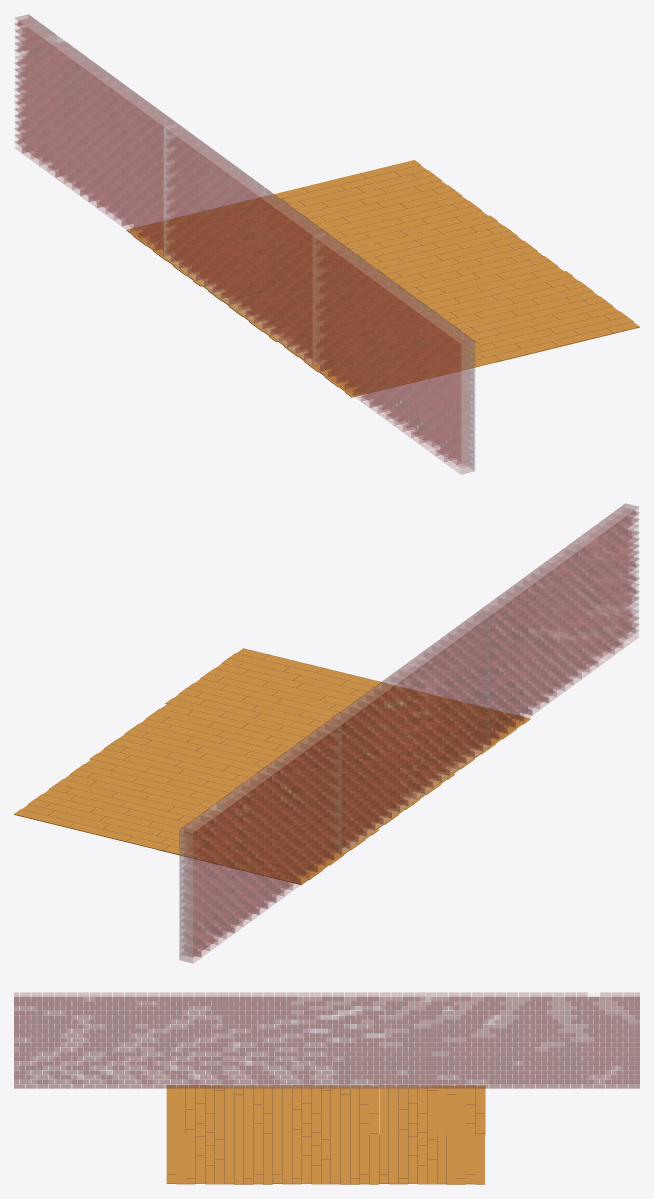
The model's file is garage-draco-2.glb.
The picture shows the model from 3 angles, top to bottom: view 1: azimuth 30°, elevation 25°; view 2: azimuth 150°, elevation 25°; view 3: azimuth 270°, elevation 25°; orthographic projection. The views are drawn at different scales.
Parts seen in each view (by area): view 1: merged; view 2: merged; view 3: merged.
Boxes of the visible parts, x1,y1,x2,y2 form: merged: [14, 14, 639, 474]; merged: [14, 503, 639, 963]; merged: [14, 992, 639, 1184].
Bounding box in the file's own units: 8.02 × 3.51 × 21.39.
